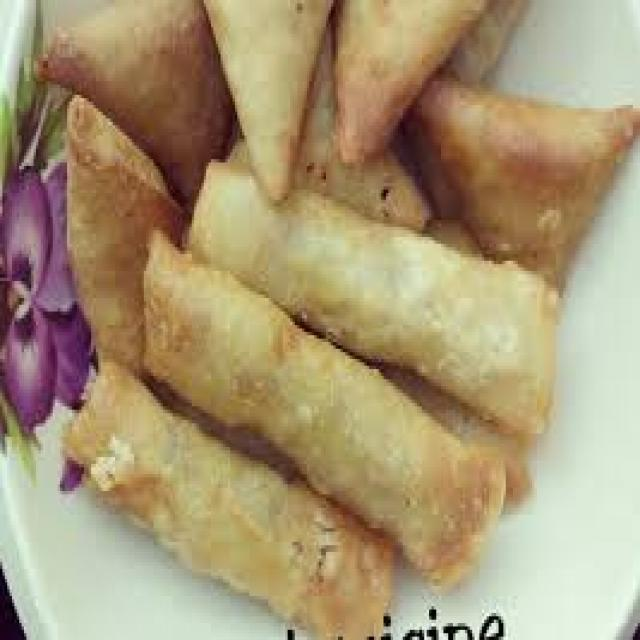Samosa: (50, 0, 606, 214)
Spring Rolls: (156, 162, 556, 613)
